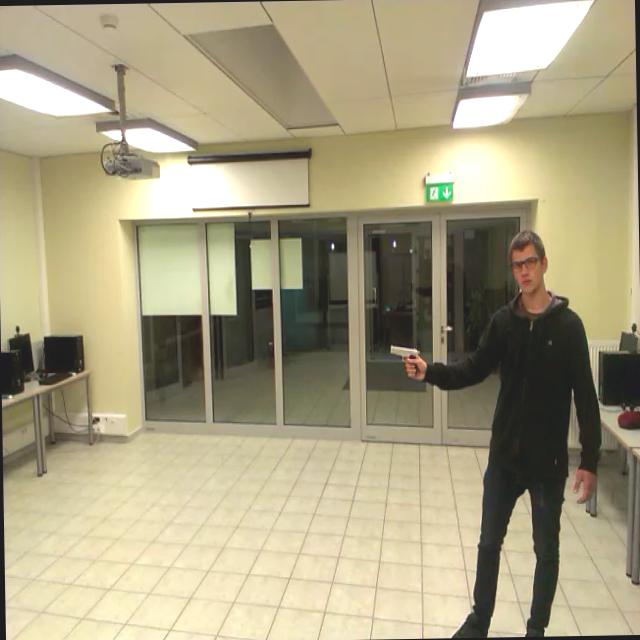handgun: (373, 341, 431, 388)
